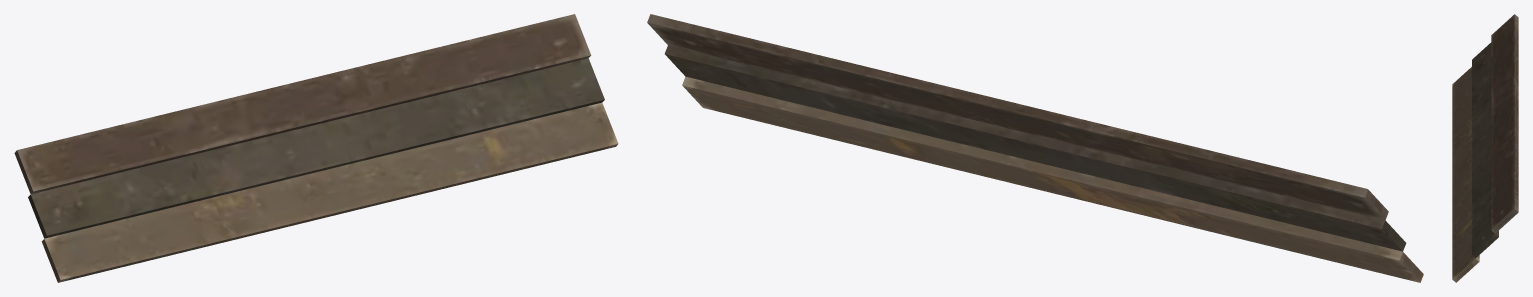
Rendered from roof.frontier.top.line.glb.
3 renders of one model, left to right at view 1: azimuth 30°, elevation 25°; view 2: azimuth 150°, elevation 25°; view 3: azimuth 270°, elevation 25°, orthographic. The views are drawn at different scales.
Parts seen in each view (by area): view 1: model; view 2: model; view 3: model.
Part boxes in pixels (x1,y1,x2,y2): model: (14, 14, 618, 282); model: (647, 14, 1423, 282); model: (1452, 14, 1518, 282).
Size of the model in its own units: 3 by 0.5288 by 0.4298.
1 material, 1 textured.
